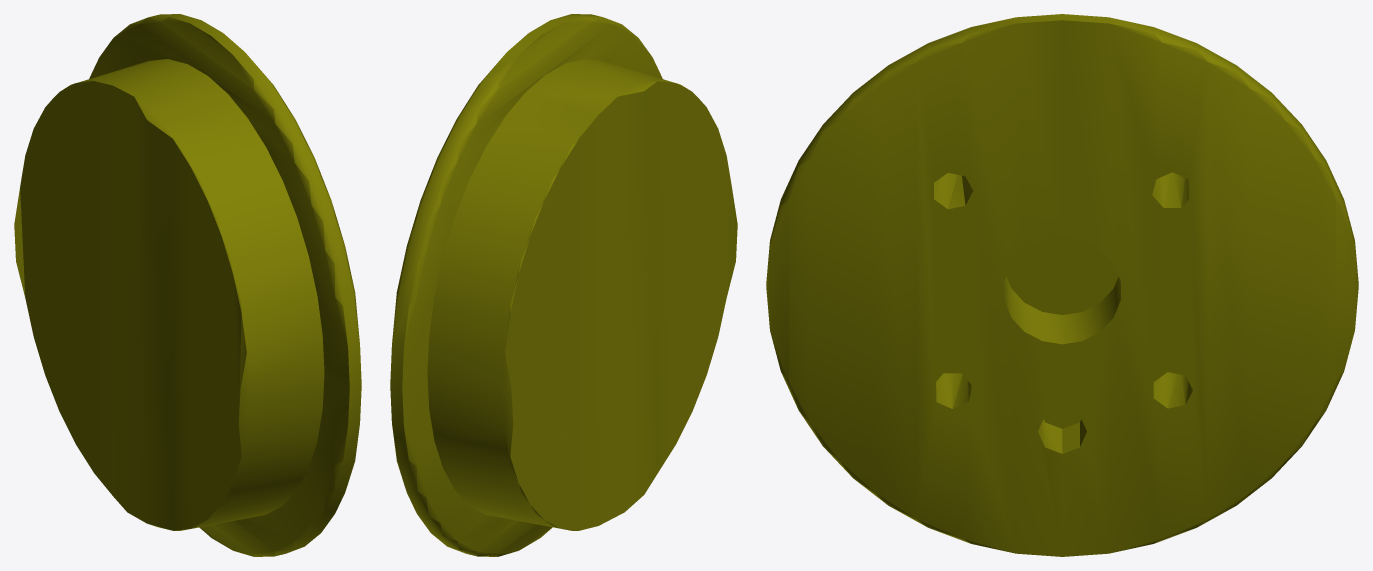
3 views of the same model, side by side, from view 1: azimuth 30°, elevation 25°; view 2: azimuth 150°, elevation 25°; view 3: azimuth 270°, elevation 25° (orthographic). The views are drawn at different scales.
Parts seen in each view (by area): view 1: gp8l_lk6; view 2: gp8l_lk6; view 3: gp8l_lk6.
Boxes of the visible parts, box(x1,y1,x2,y2) form: gp8l_lk6: box(14, 14, 361, 556); gp8l_lk6: box(390, 14, 737, 556); gp8l_lk6: box(766, 14, 1358, 556).
Bounding box in the file's own units: 0.0125 × 0.06 × 0.06.
